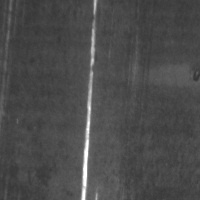scratches: (80, 3, 100, 199)
